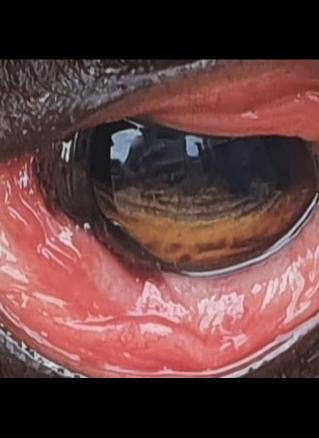eye_membrane: (0, 153, 319, 377)
